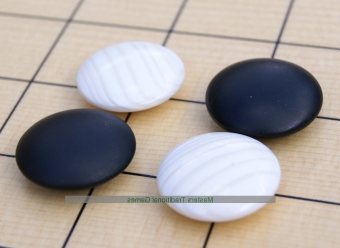black: (14, 107, 137, 193), (203, 56, 325, 141)
crossing: (23, 70, 47, 92), (59, 9, 82, 31), (161, 20, 182, 38), (269, 34, 289, 51)
white: (154, 130, 283, 195), (74, 40, 187, 114)
